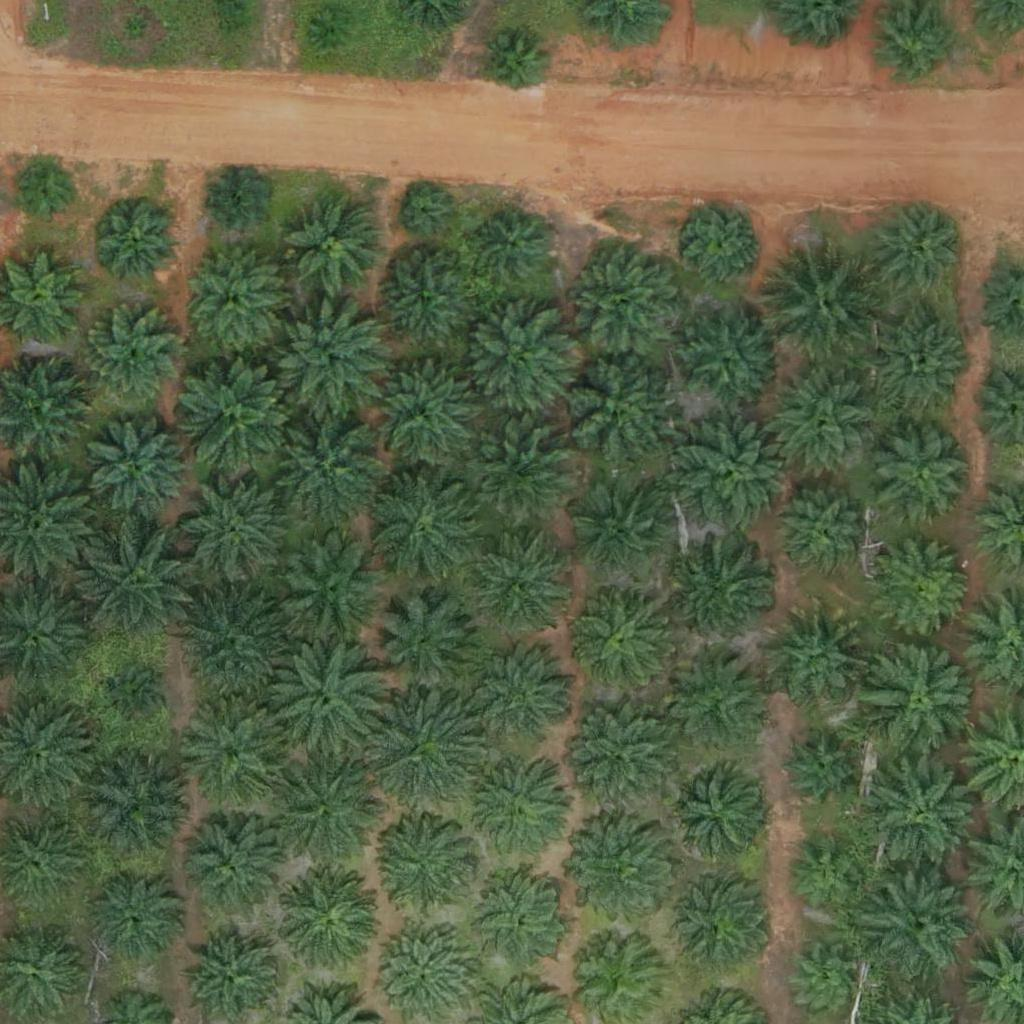Kelapa_Sawit: (75, 522, 200, 648), (176, 353, 301, 479), (172, 582, 297, 708), (259, 402, 384, 528), (269, 633, 394, 759), (364, 464, 489, 590), (359, 689, 484, 815), (564, 237, 689, 363), (552, 348, 677, 474), (557, 695, 682, 821), (672, 412, 797, 538), (763, 238, 888, 364), (759, 361, 884, 487), (861, 637, 986, 763), (861, 750, 986, 876), (265, 747, 390, 873), (360, 356, 485, 481), (83, 748, 196, 862), (273, 302, 386, 415), (274, 534, 387, 647), (369, 590, 482, 703), (468, 644, 581, 757), (863, 867, 976, 980), (560, 819, 673, 932), (456, 752, 569, 865), (181, 697, 293, 811), (84, 414, 196, 527), (175, 471, 287, 584), (462, 305, 574, 418), (463, 417, 575, 530), (80, 307, 180, 408), (184, 248, 284, 349), (284, 196, 384, 297), (373, 250, 473, 351), (572, 484, 672, 585), (573, 585, 673, 686), (680, 540, 780, 641), (668, 645, 768, 746), (771, 608, 871, 709), (664, 762, 764, 863), (666, 874, 766, 975), (471, 872, 571, 973), (372, 816, 472, 917), (678, 309, 778, 409), (868, 201, 968, 301), (872, 317, 972, 417), (872, 424, 972, 524), (874, 541, 974, 641), (277, 874, 377, 974), (177, 818, 277, 918), (85, 873, 185, 973), (94, 201, 182, 289), (475, 540, 563, 628), (780, 491, 867, 579), (685, 206, 760, 282), (790, 941, 865, 1016), (789, 837, 864, 912), (476, 209, 551, 284), (782, 734, 857, 809), (483, 33, 546, 96), (105, 668, 168, 731), (206, 171, 269, 234), (16, 164, 78, 227), (401, 188, 451, 238), (313, 9, 351, 47), (124, 16, 149, 41)
